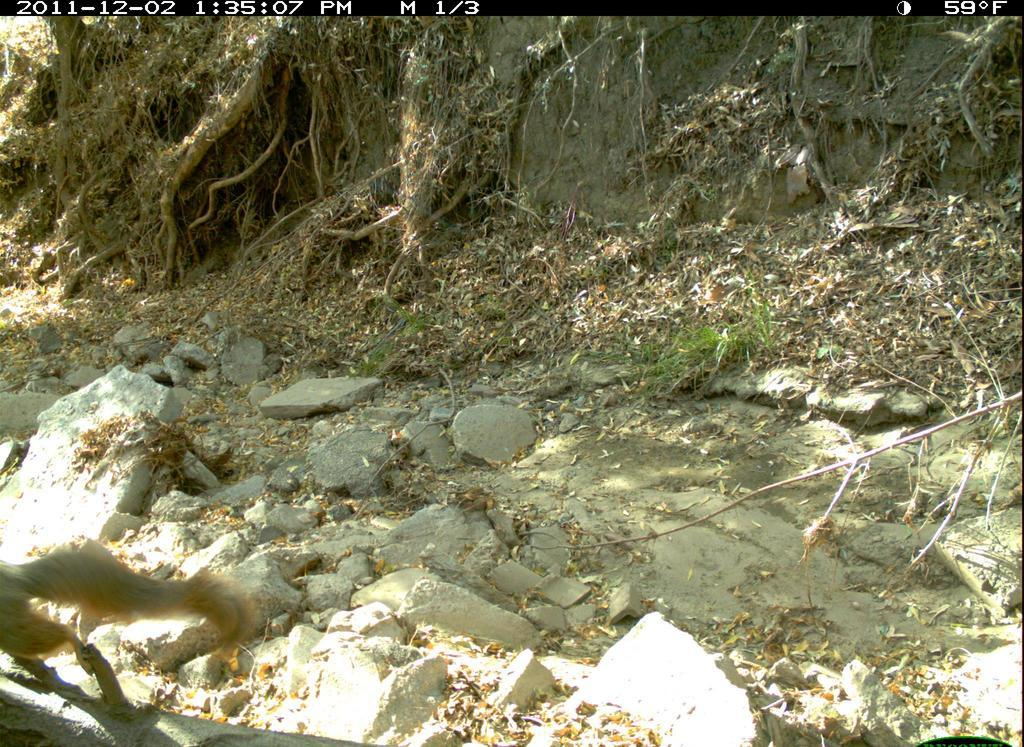squirrel: (1, 521, 257, 694)
